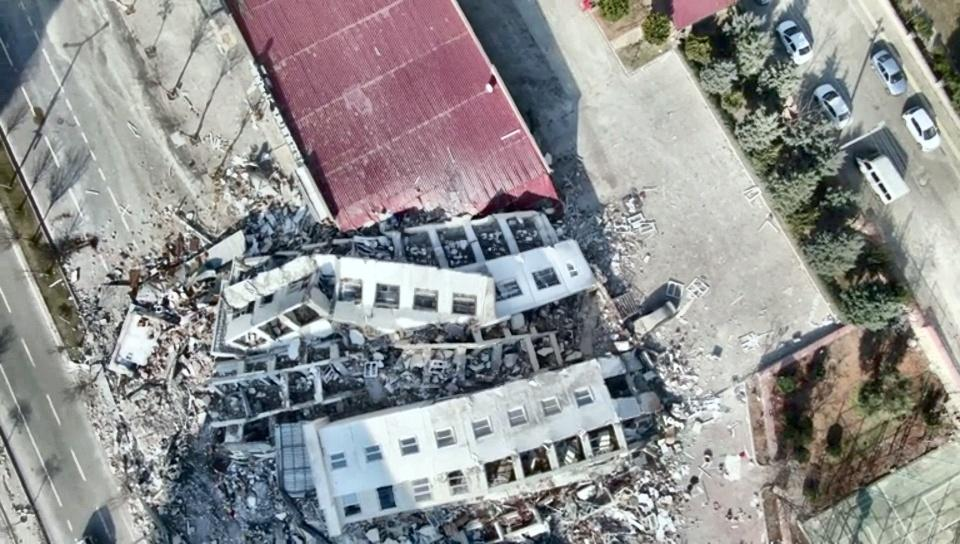kapali: (25, 135, 385, 543)
